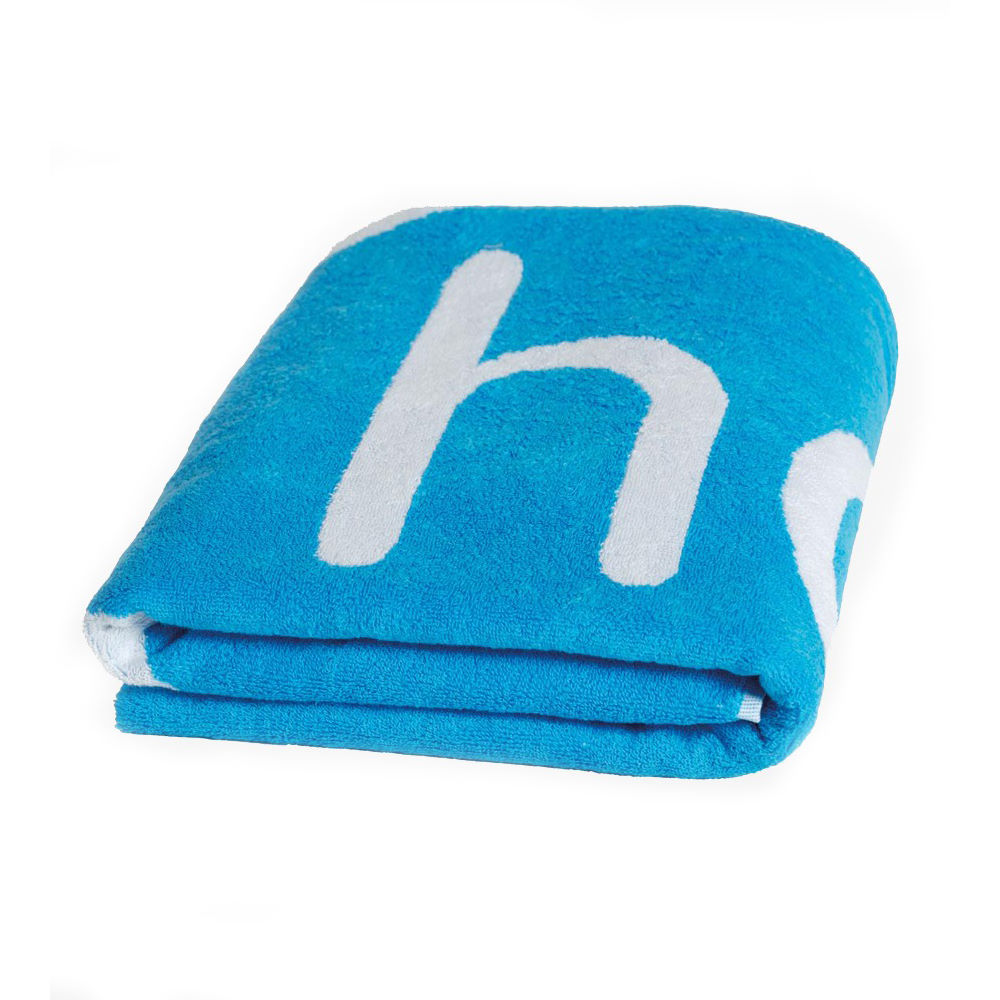flexible: (82, 197, 905, 785)
